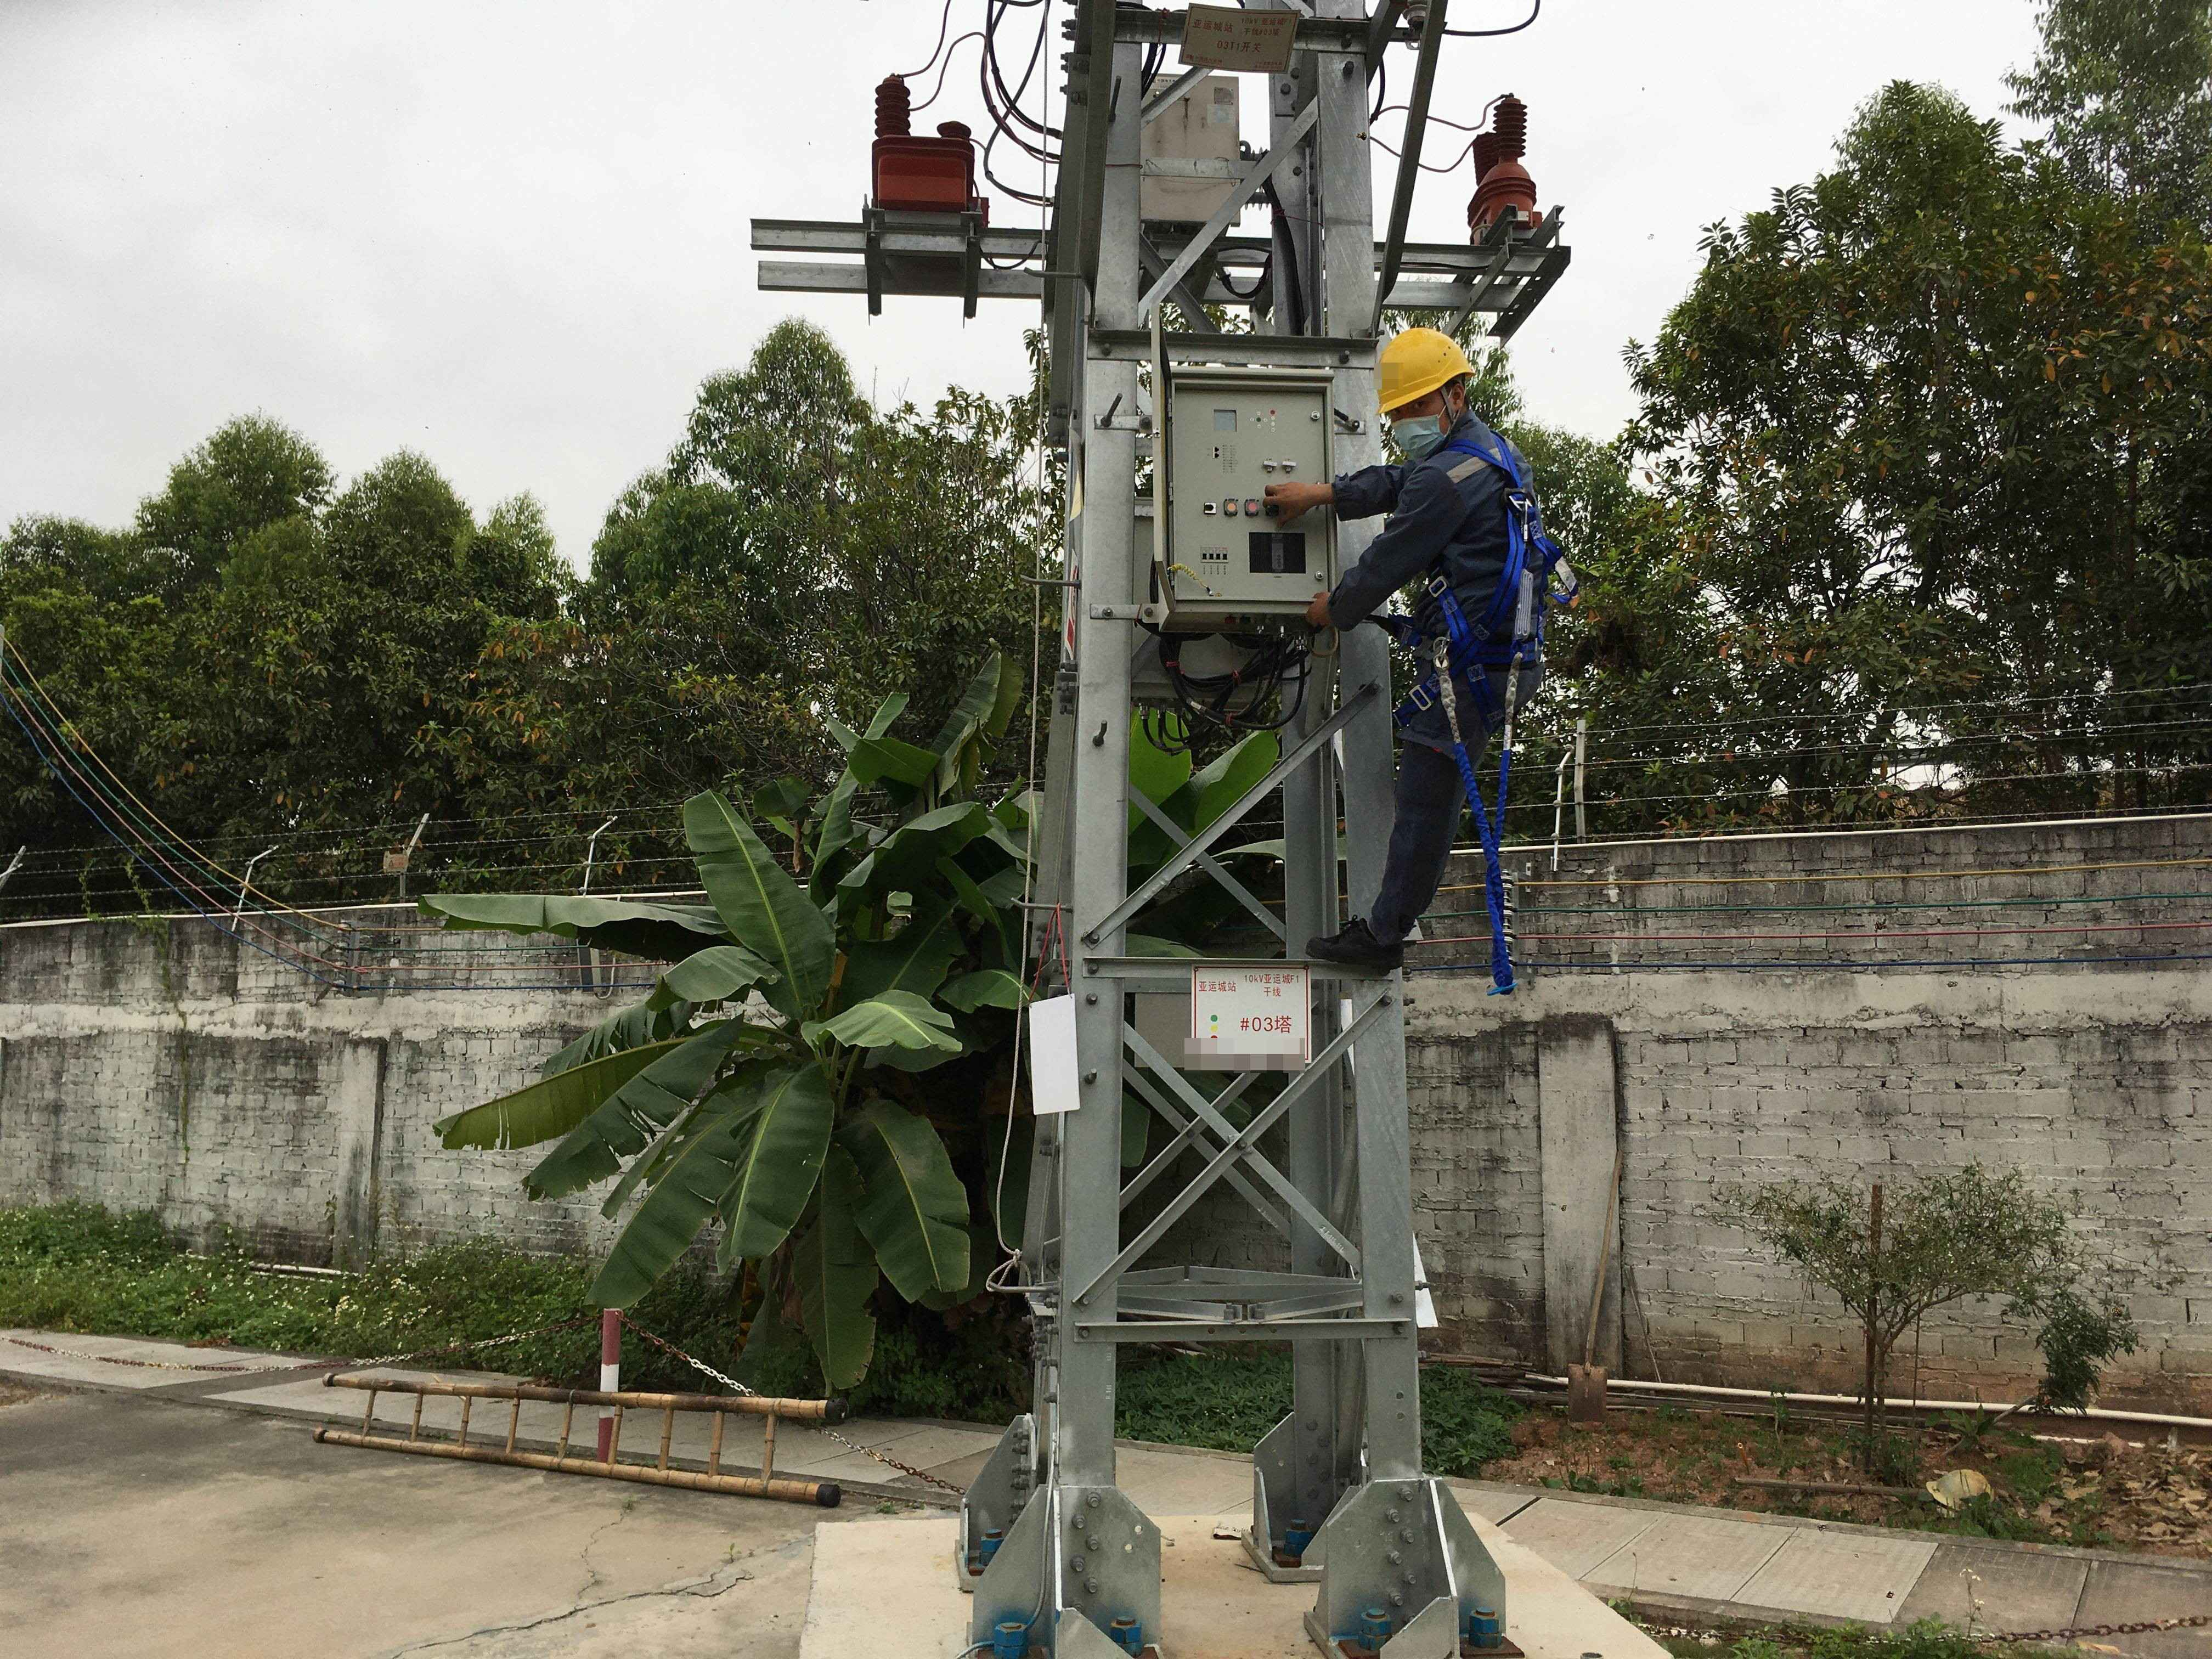downsuit: (1379, 653, 1543, 941)
upsuit: (1322, 427, 1557, 633)
